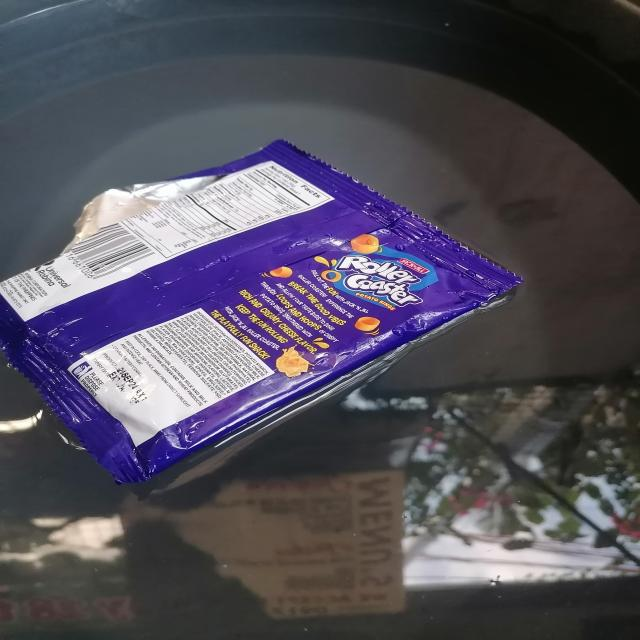Plastic Wrapper: (0, 140, 523, 486)
